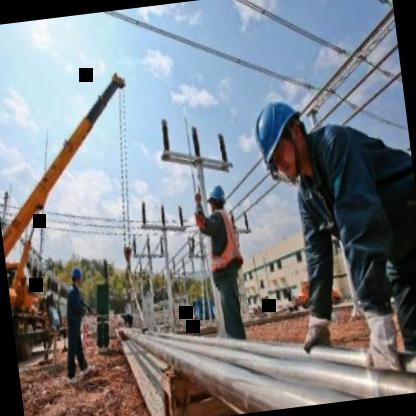helmet: (244, 90, 316, 191), (203, 179, 229, 215), (68, 263, 85, 292)
